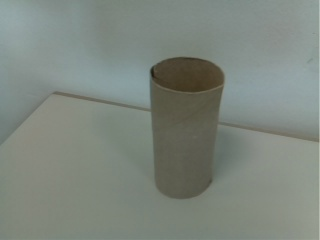rollo papel: (146, 56, 228, 202)
